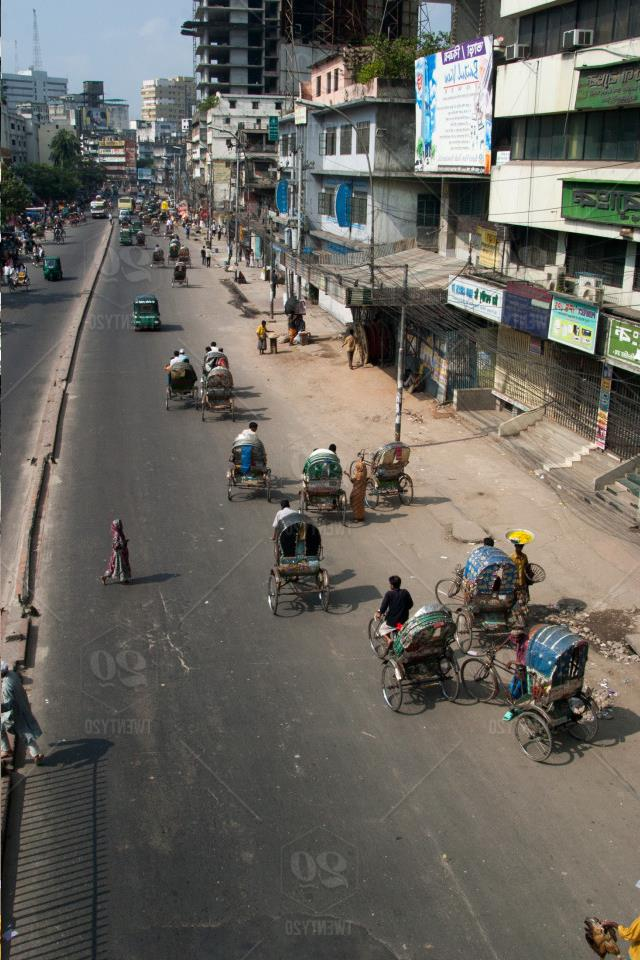Rickshaw: (473, 614, 604, 767), (363, 597, 454, 723), (267, 504, 330, 615), (467, 525, 518, 630), (222, 426, 269, 495), (375, 434, 419, 501), (302, 448, 345, 505), (202, 367, 231, 414), (164, 356, 191, 404), (200, 341, 235, 376)
